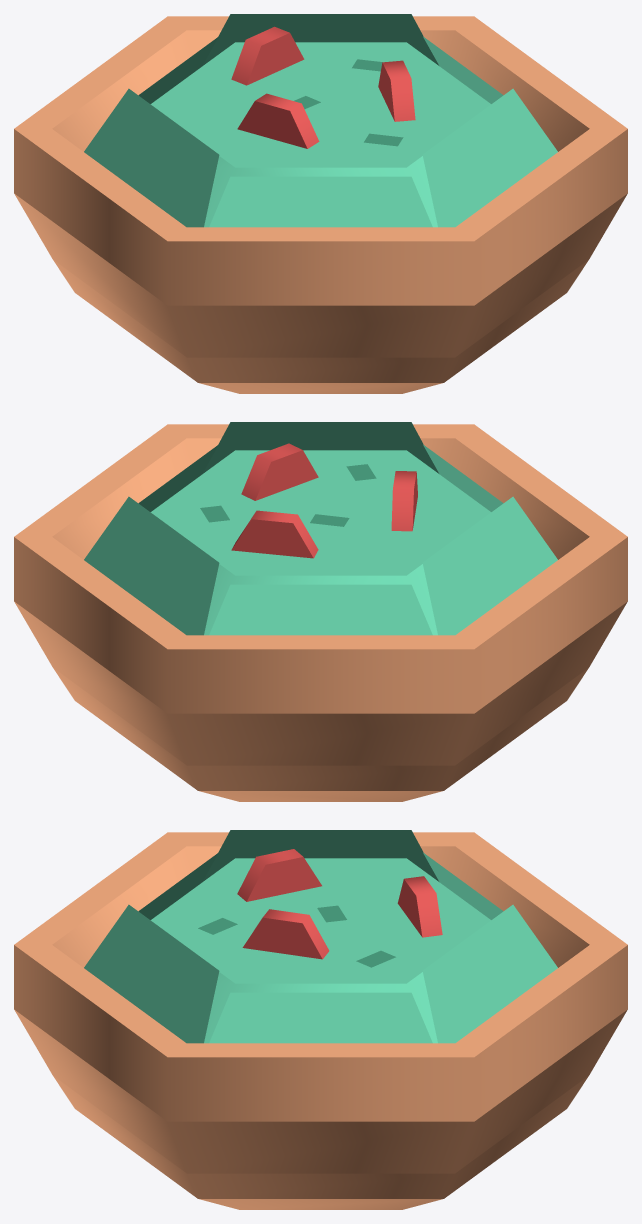
File: salad.GLB
3 views of the same model, one above another, from view 1: azimuth 30°, elevation 25°; view 2: azimuth 150°, elevation 25°; view 3: azimuth 270°, elevation 25° (orthographic).
Visible parts, largest first — view 1: salad; view 2: salad; view 3: salad.
Boxes of the visible parts, left/top/right/bottom form: salad: left=14, top=14, right=627, bottom=393; salad: left=14, top=422, right=627, bottom=801; salad: left=14, top=830, right=627, bottom=1209.
Size of the model in its own units: 0.5022 by 0.2734 by 0.5798.
